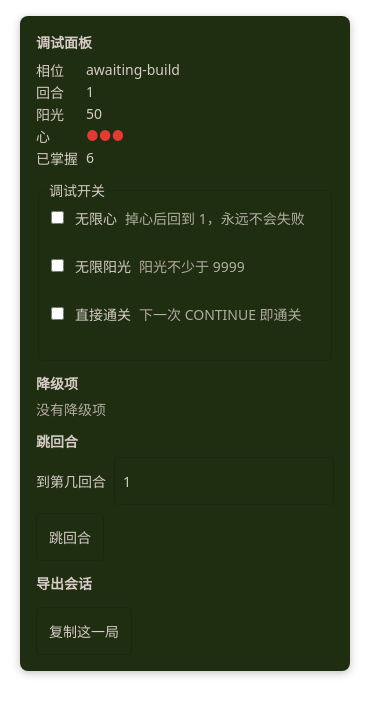
Test: [CR 2026-10-17] 面板上的「导出会话」（裁决 3 / AR39） › 剪贴板被拒 ⇒ 说人话，**不冒技术字样**（NFR13 / 守卫 G111）
Step 1. Click the button "复制这一局" → (84, 631), box [36,607,132,655]
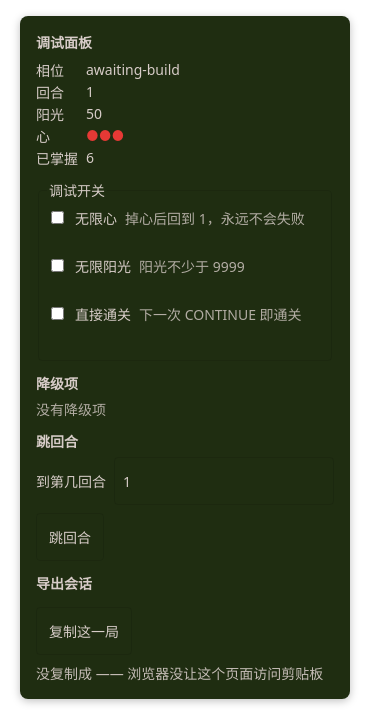
Check: the text "没复制成" is shown, box [36,664,323,683]
